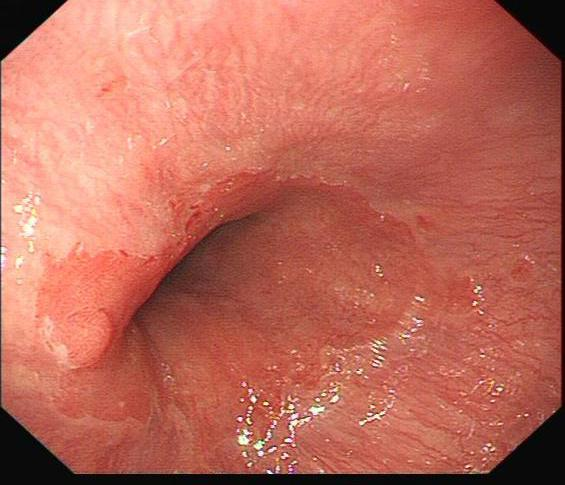Polyp: (54, 307, 112, 371)
